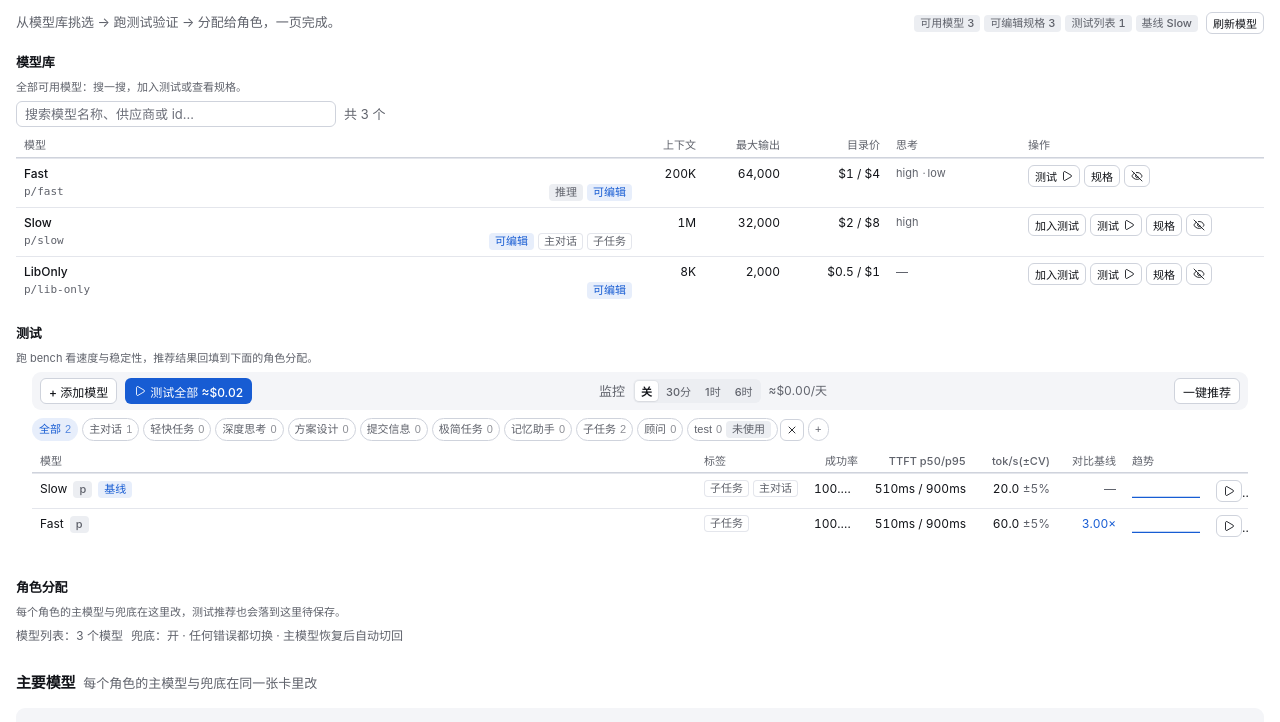
模型库 › 库里独有模型的测试先落 bench 行再入队
The width and height of the screenshot is (1280, 722).
Expected: the element "模型库" is shown, [16,38,1264,305]
Expected: the button "测试全部 ≈$0.02" is shown, [125,378,252,404]
Click the button with aria-label "测试 p/lib-only": (1116, 274) [1090,263,1142,285]
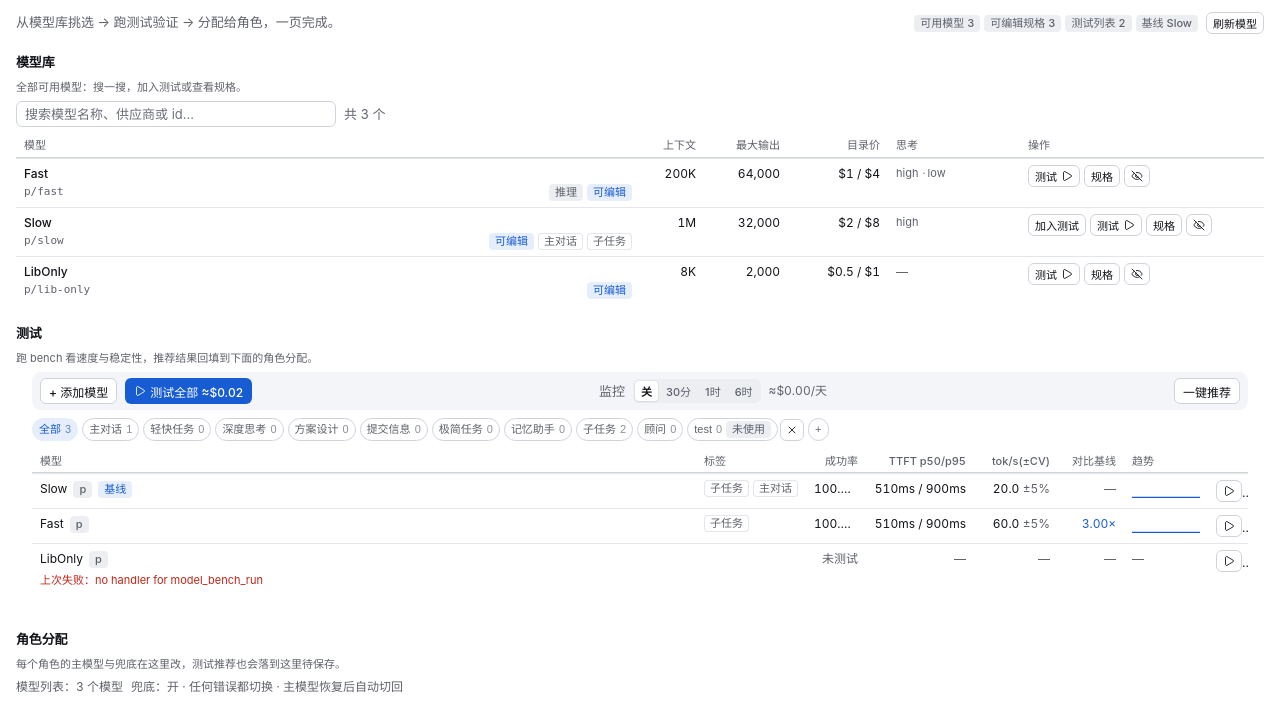
Expected: the text "测试列表 2" is shown, [1066,14,1132,32]
Expected: the text "LibOnly" in the row of "未测试" is shown, [40,552,83,566]
